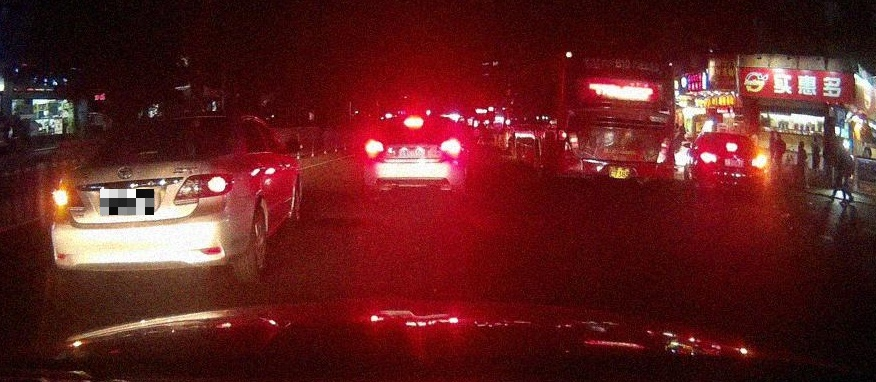L_light: (51, 185, 86, 212), (566, 120, 580, 157), (366, 142, 384, 153), (700, 153, 717, 162)
R_light: (172, 172, 232, 205), (656, 130, 671, 163), (441, 141, 461, 152), (753, 157, 766, 166)
T_light: (614, 94, 637, 100), (404, 119, 425, 125), (152, 123, 173, 128), (726, 143, 737, 148)
night-brake: (364, 115, 465, 193)
night-left: (49, 113, 239, 286)
night-no: (558, 50, 674, 190)
night-right: (696, 131, 766, 191)
plate_1: (100, 189, 154, 215)
